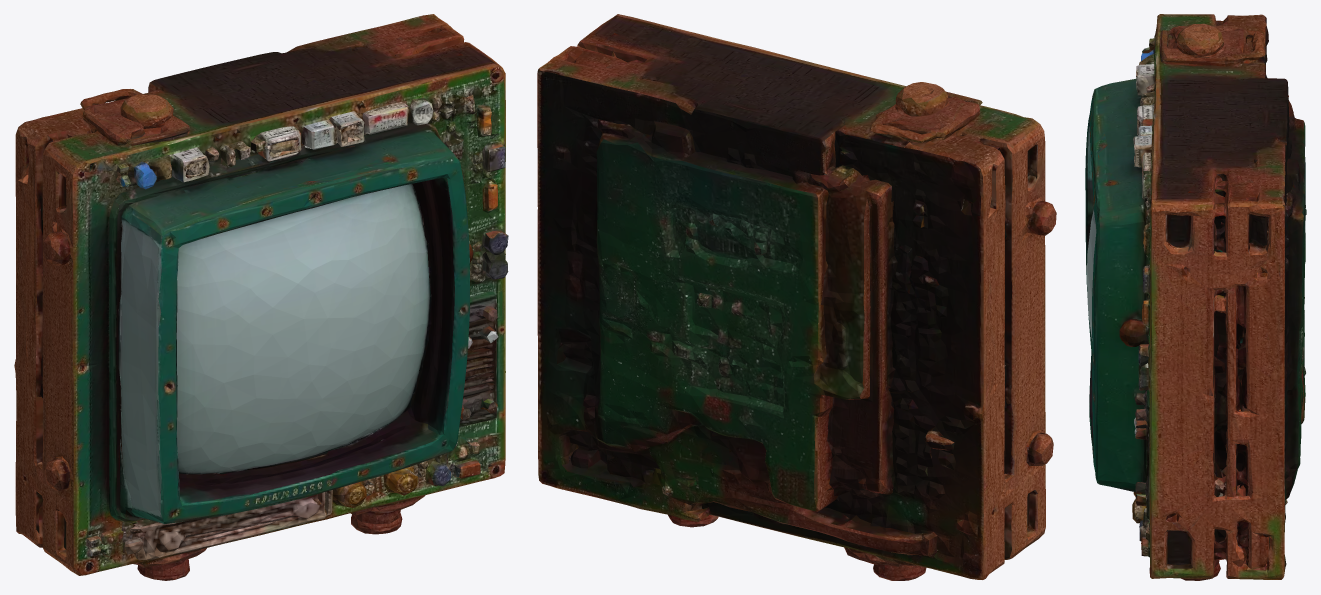
File: wing (317).glb
3 views of the same model, side by side, from view 1: azimuth 30°, elevation 25°; view 2: azimuth 150°, elevation 25°; view 3: azimuth 270°, elevation 25° (orthographic). The views are drawn at different scales.
Visible parts, largest first — view 1: Hy21_Mesh.obj; view 2: Hy21_Mesh.obj; view 3: Hy21_Mesh.obj.
Part boxes in pixels (x1,y1,x2,y2): Hy21_Mesh.obj: [14, 14, 508, 580]; Hy21_Mesh.obj: [537, 14, 1056, 580]; Hy21_Mesh.obj: [1085, 14, 1306, 580].
Bounding box in the file's own units: 1.92 × 1.96 × 0.8938.
Materials: 1 (1 with a texture image).
